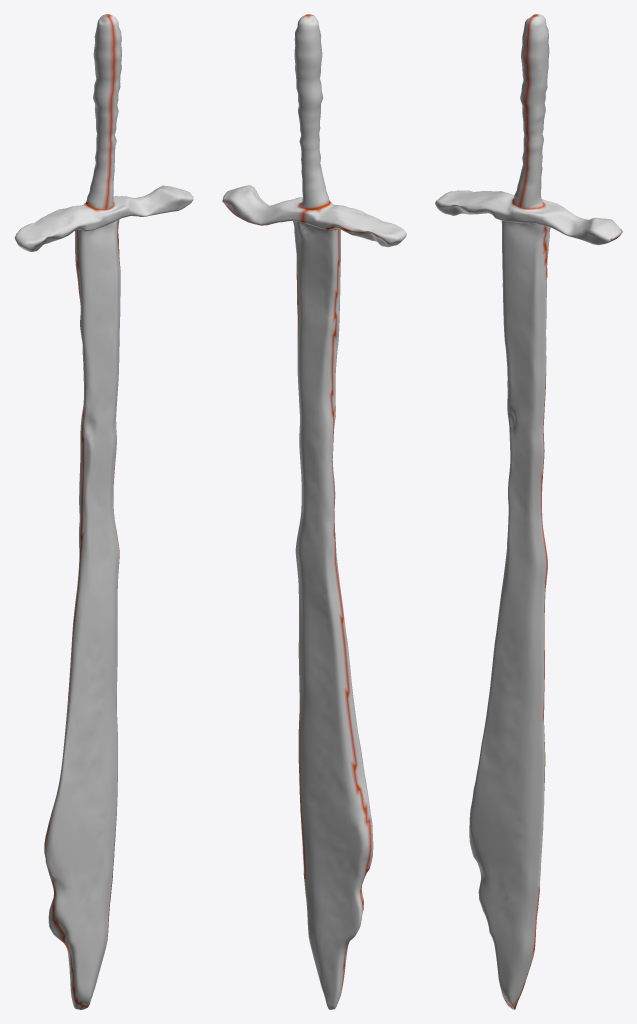
File: epee_LP+unwrap.fbx
3 views of the same model, side by side, from view 1: azimuth 30°, elevation 25°; view 2: azimuth 150°, elevation 25°; view 3: azimuth 330°, elevation 25° (orthographic).
Parts seen in each view (by area): view 1: PM3D_pCube1_SeamsColor; view 2: PM3D_pCube1_SeamsColor; view 3: PM3D_pCube1_SeamsColor.
Boxes of the visible parts, bbox=[...] form: PM3D_pCube1_SeamsColor: bbox=[14, 14, 193, 1009]; PM3D_pCube1_SeamsColor: bbox=[222, 14, 406, 1009]; PM3D_pCube1_SeamsColor: bbox=[435, 14, 622, 1009].
Size of the model in its own units: 0.3695 by 2.01 by 0.0878.
